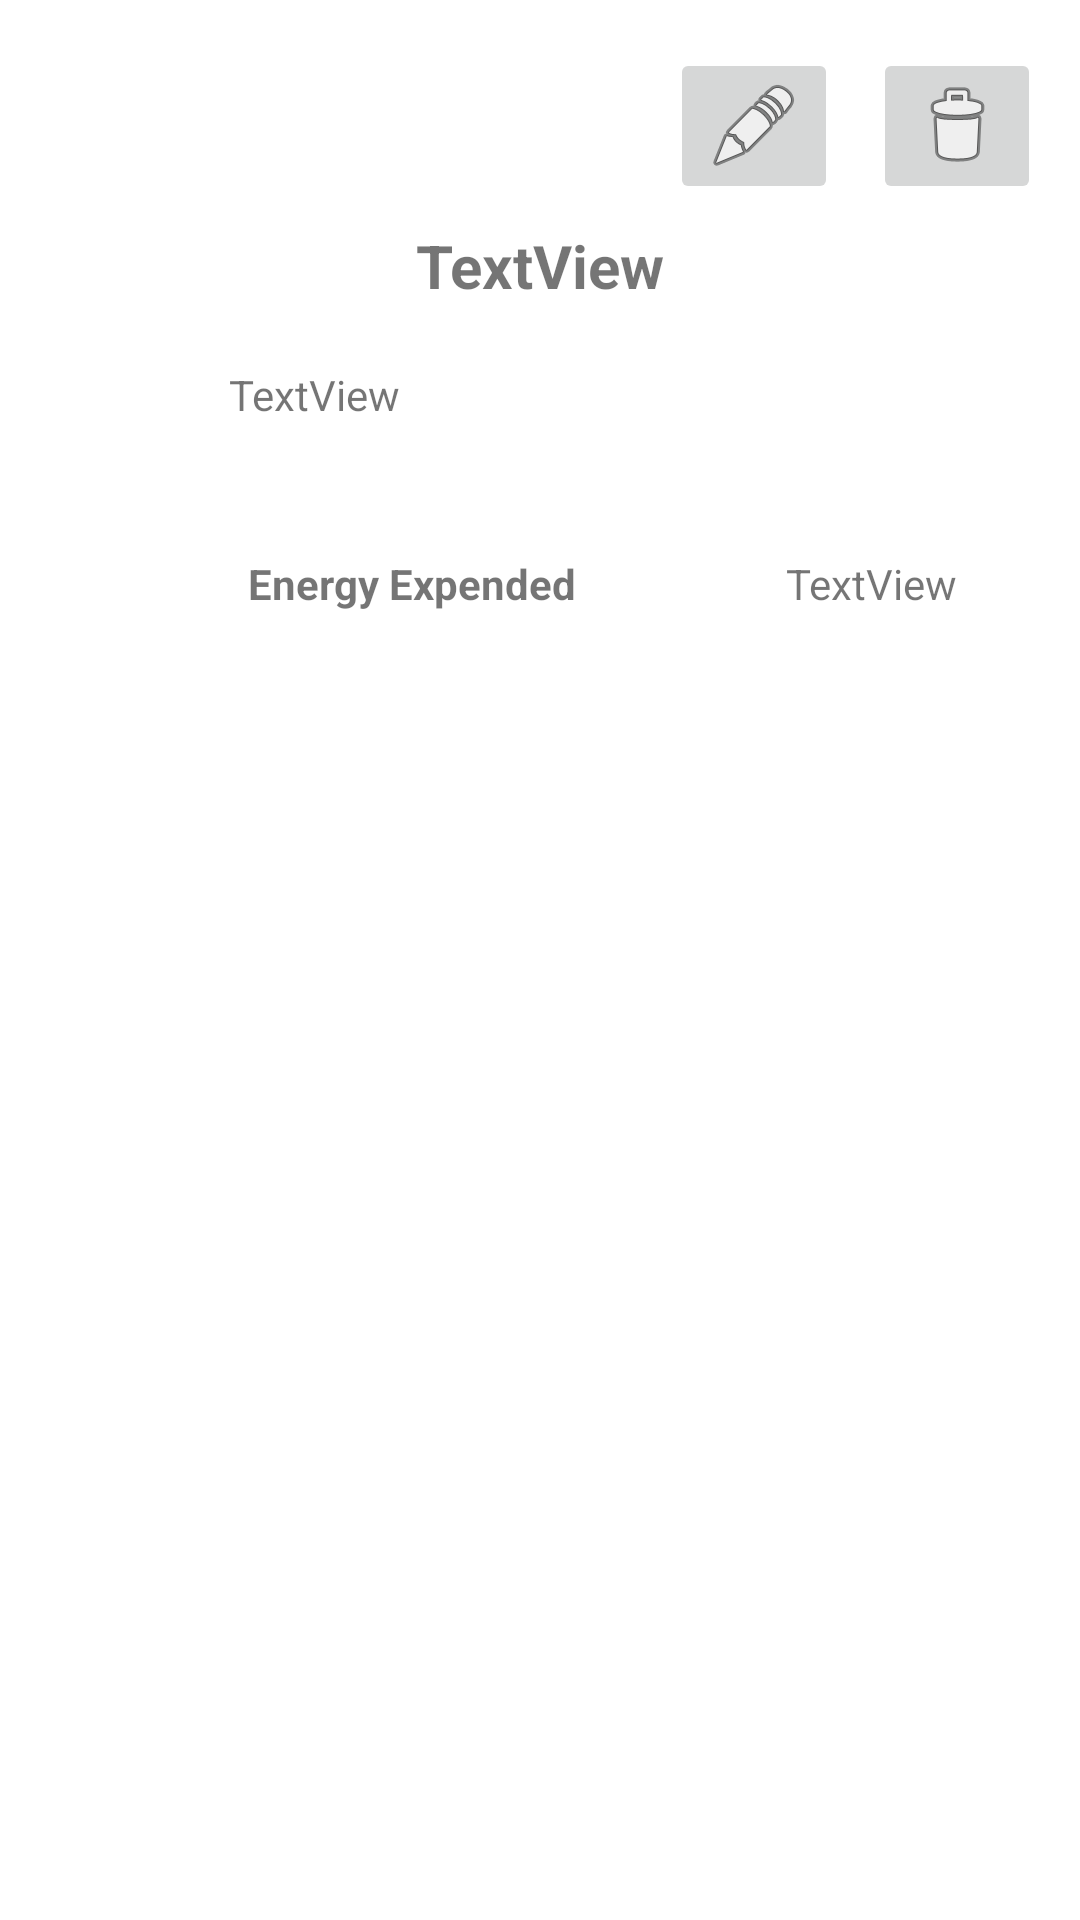

Screen size 1080×1920. Icon name, then its box in pixels as [x1=x1, y1=y1, x2=x2, y2=y2]:
delete: [x1=885, y1=66, x2=1029, y2=186]
edit: [x1=682, y1=66, x2=826, y2=186]
